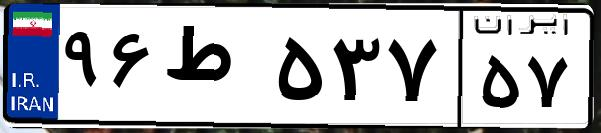3: (330, 28, 385, 110)
5: (270, 28, 330, 110), (475, 38, 525, 113)
6: (110, 28, 158, 98)
7: (385, 28, 445, 110), (525, 38, 570, 115)
9: (57, 26, 110, 100)
ط: (158, 20, 270, 120)
